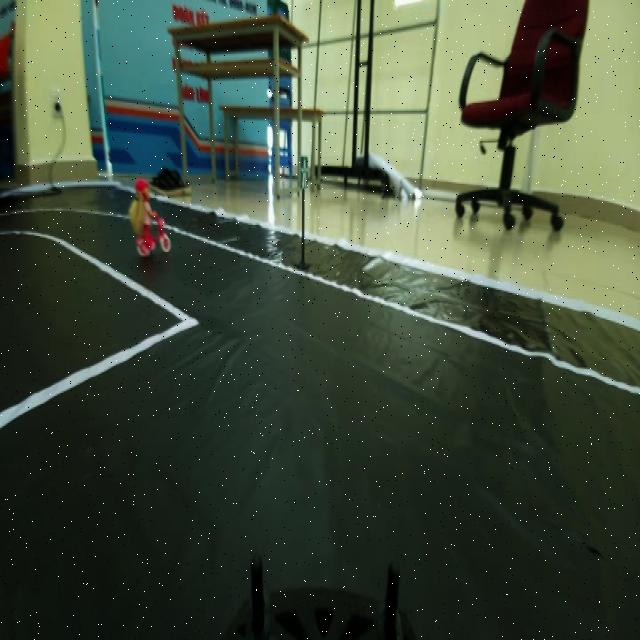highway_entry: (294, 147, 314, 192)
pedestrian: (130, 171, 177, 260)
